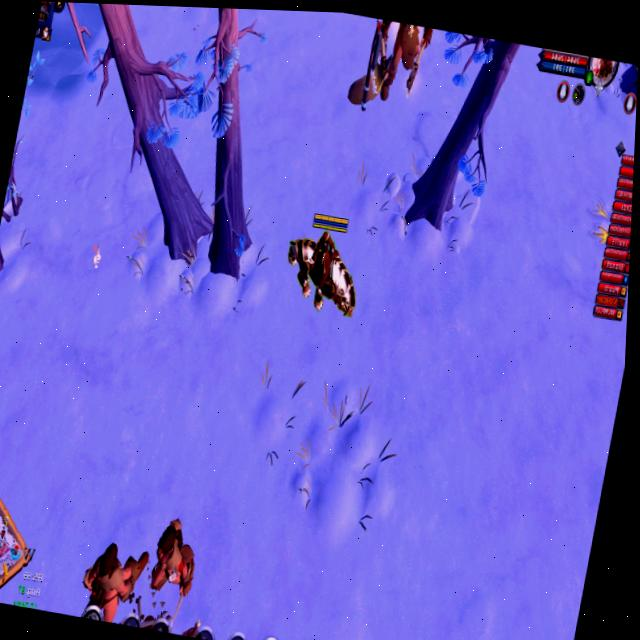ore: (138, 492, 214, 621), (353, 17, 441, 125), (75, 520, 148, 627)
red: (270, 202, 373, 327)
